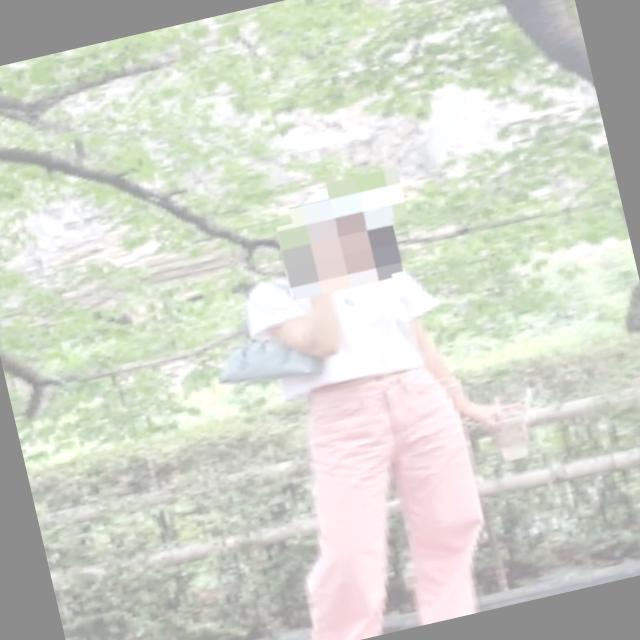cottonpants: (231, 349, 510, 640)
shortsleeve: (230, 238, 452, 408)
